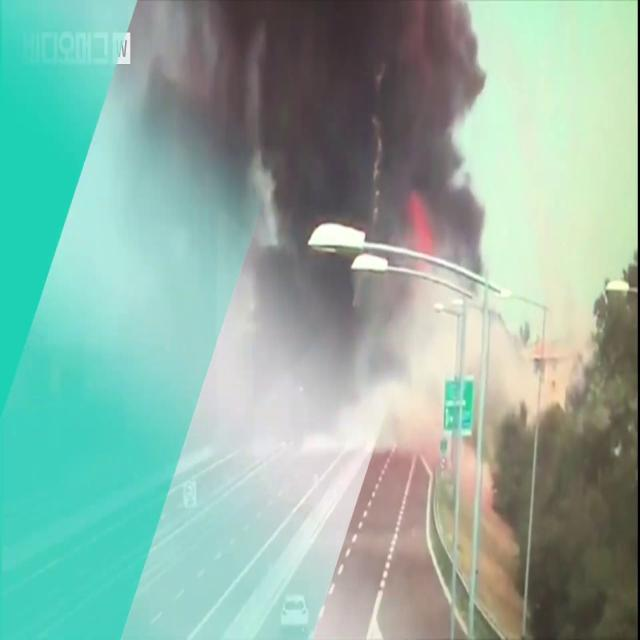explosion: (125, 0, 493, 427)
